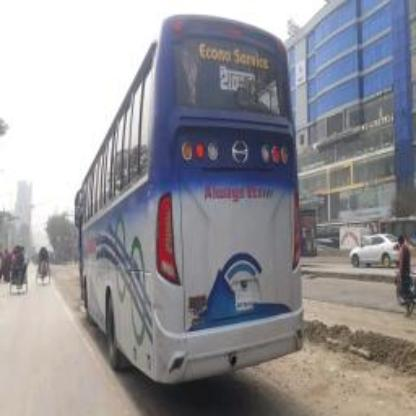bus: (73, 7, 313, 377)
